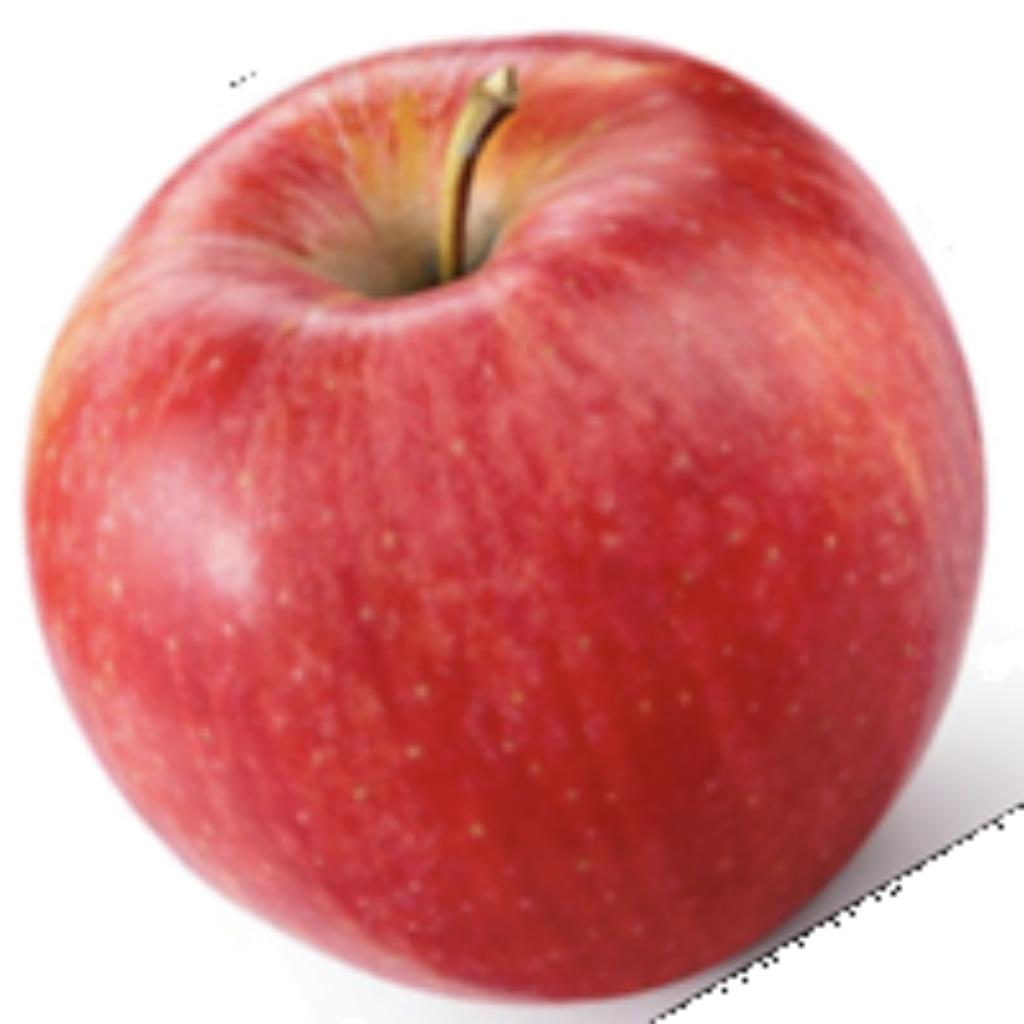apple: (15, 20, 1012, 1019)
